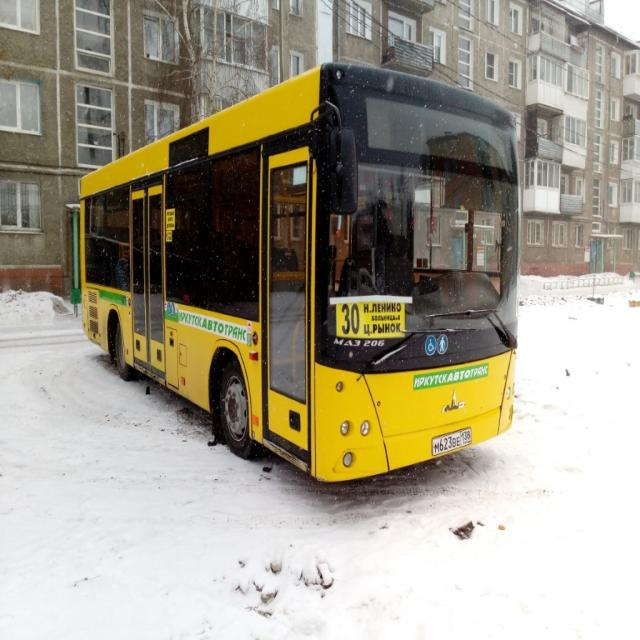number-of-bus: (340, 302, 363, 337)
